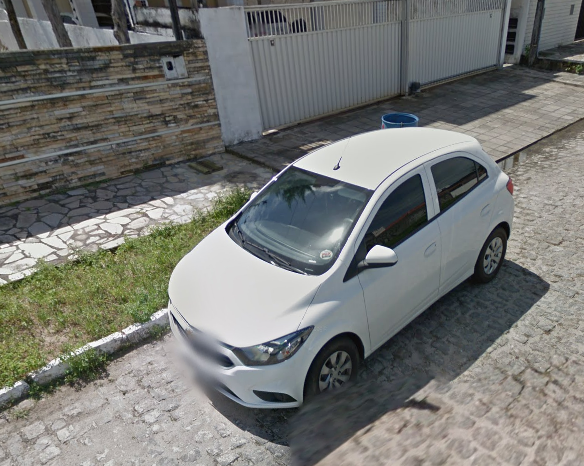car: (165, 123, 518, 412)
